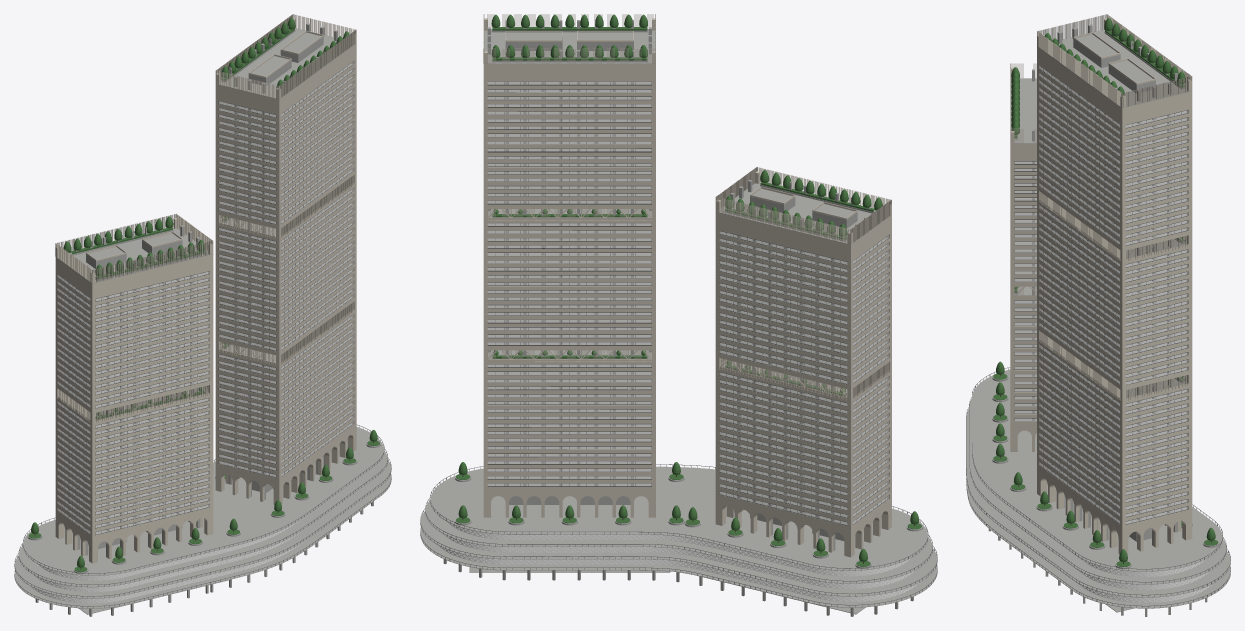
The model's file is highrise_house.optimized.glb.
The picture shows the model from 3 angles, left to right: view 1: azimuth 30°, elevation 25°; view 2: azimuth 150°, elevation 25°; view 3: azimuth 270°, elevation 25°; orthographic projection. The views are drawn at different scales.
Parts seen in each view (by area): view 1: Web_Spandrel, Web_Concrete, Web_Glass_Web, Web_LouvreMetal, Ceiling_Lights, Web_Foliage; view 2: Web_Spandrel, Web_Concrete, Web_Glass_Web, Web_LouvreMetal, Ceiling_Lights, Web_Foliage; view 3: Web_Spandrel, Web_Concrete, Web_Glass_Web, Web_LouvreMetal, Ceiling_Lights, Web_Foliage.
Part boxes in pixels (x1,y1,x2,y2): Web_Spandrel: (55,14,356,563); Web_Concrete: (14,23,391,616); Web_Glass_Web: (31,61,365,603); Web_LouvreMetal: (14,60,391,607); Ceiling_Lights: (61,66,354,534); Web_Foliage: (28,17,379,572); Web_Spandrel: (483,14,891,557); Web_Concrete: (420,20,937,616); Web_Glass_Web: (438,82,918,601); Web_LouvreMetal: (420,81,937,606); Ceiling_Lights: (487,84,847,525); Web_Foliage: (456,14,921,566); Web_Spandrel: (1010,14,1192,554); Web_Concrete: (966,24,1230,616); Web_Glass_Web: (1014,66,1212,602); Web_LouvreMetal: (966,65,1230,607); Ceiling_Lights: (1014,68,1188,524); Web_Foliage: (993,18,1218,566).
Size of the model in its own units: 251 by 279 by 131.
Materials: 9 (9 with a texture image).
